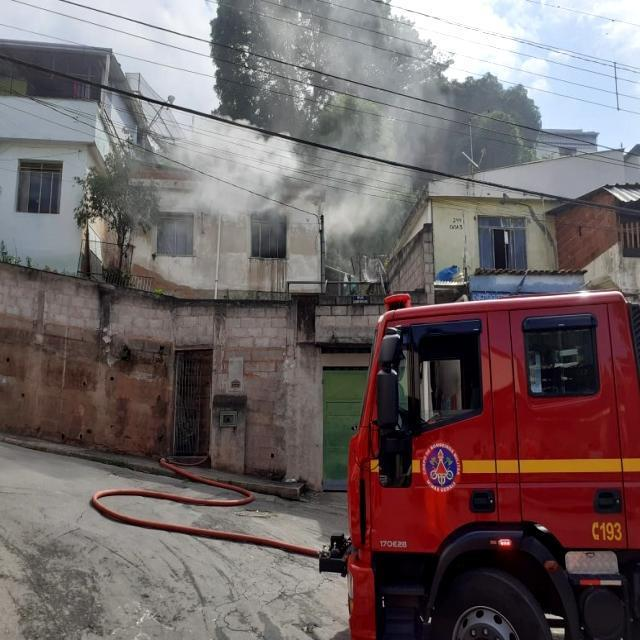Smoke: (148, 0, 507, 300)
